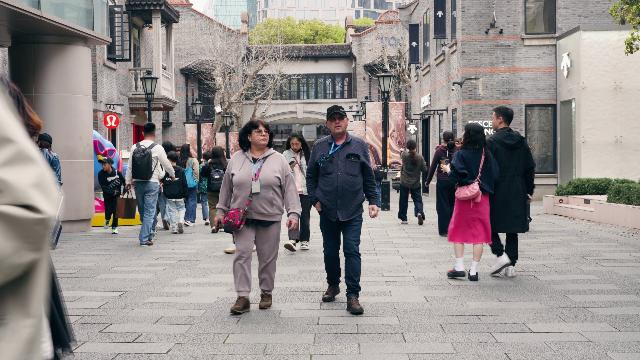person: (306, 104, 379, 315), (223, 110, 285, 325), (440, 122, 500, 281), (483, 106, 536, 278), (124, 122, 176, 246), (424, 130, 462, 236), (282, 130, 312, 252), (159, 151, 190, 234), (398, 139, 427, 225), (200, 146, 228, 233), (98, 156, 126, 234), (38, 130, 71, 184), (197, 151, 211, 226)
